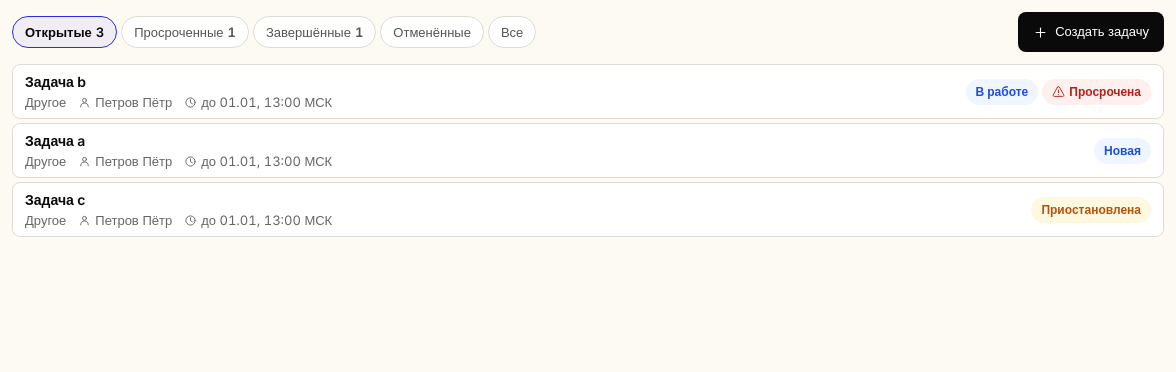
Test: OrderBizTasksTab › счётчики открытых, просроченных, завершённых; завершённые и отменённые — фильтром
Check: the button "Открытые 3" is shown, box [12,16,117,48]
Check: the button "Завершённые 1" is shown, box [253,16,376,48]
Click the button "Просроченные 1" at (185, 32), box [121,16,249,48]
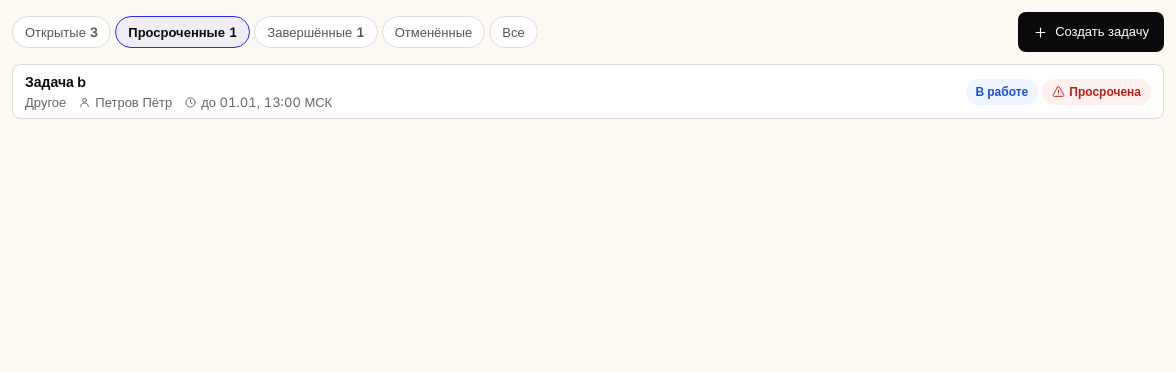
Click the button "Завершённые 1" at (316, 32), box [254,16,378,48]
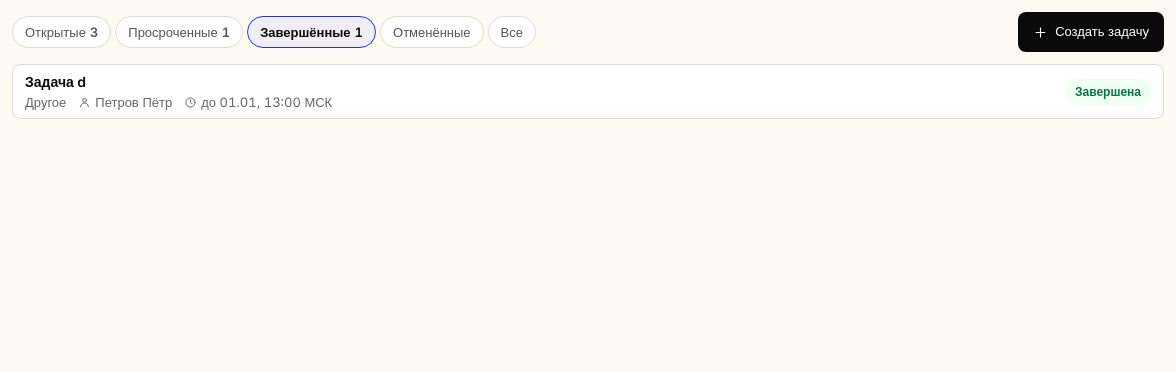
Check: the link "Задача a" is not shown
Check: the link "Задача d Другое Петров Пётр до 01.01, 13:00 МСК Завершена" is shown, box [12,64,1164,119]
Click the button "Отменённые" at (432, 32), box [380,16,484,48]
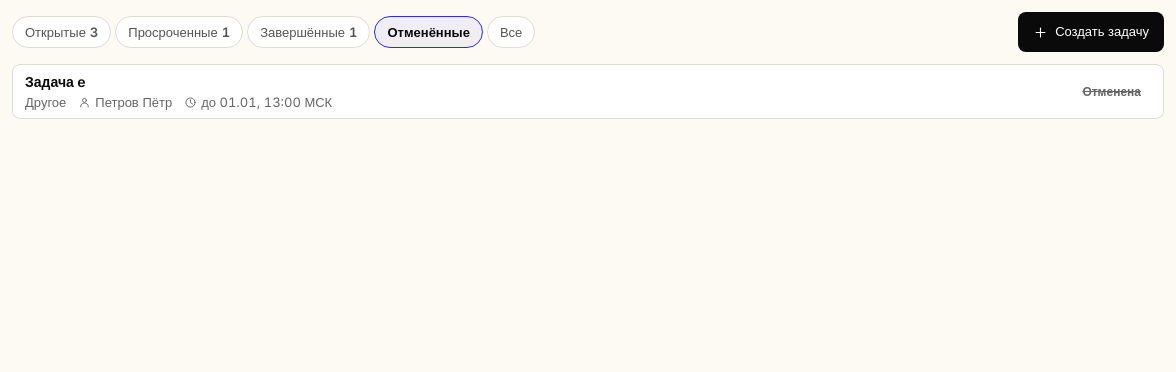
Check: the link "Задача e Другое Петров Пётр до 01.01, 13:00 МСК Отменена" is shown, box [12,64,1164,119]
Check: the link "Задача d" is gone
Click the button "Все" at (511, 32), box [487,16,535,48]
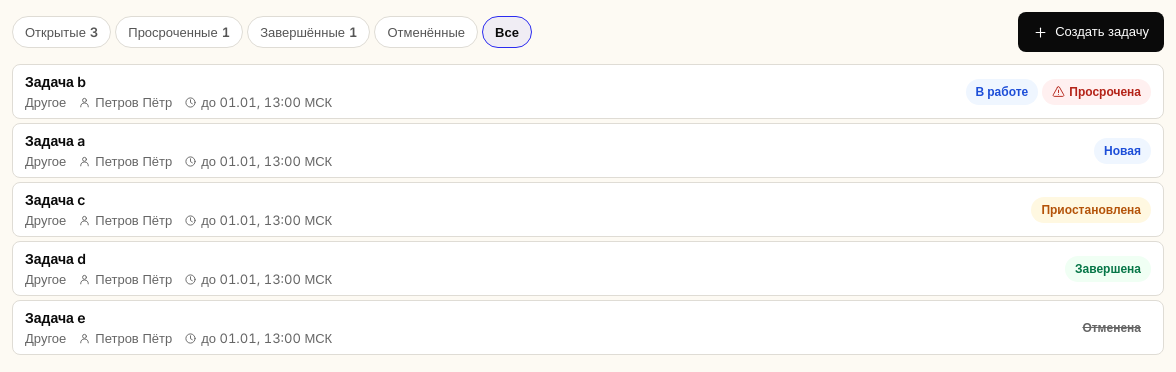
Check: the number of links is 5, box [12,64,1164,119]; [12,123,1164,178]; [12,182,1164,237]; [12,241,1164,296]; [12,300,1164,355]
